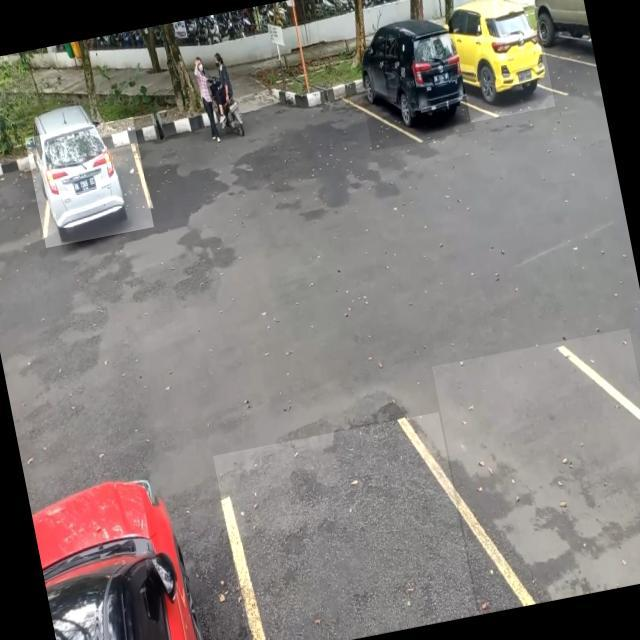empty: (213, 412, 478, 640), (432, 328, 640, 614)
occupied: (25, 118, 154, 248), (352, 27, 476, 151), (449, 0, 556, 122)
